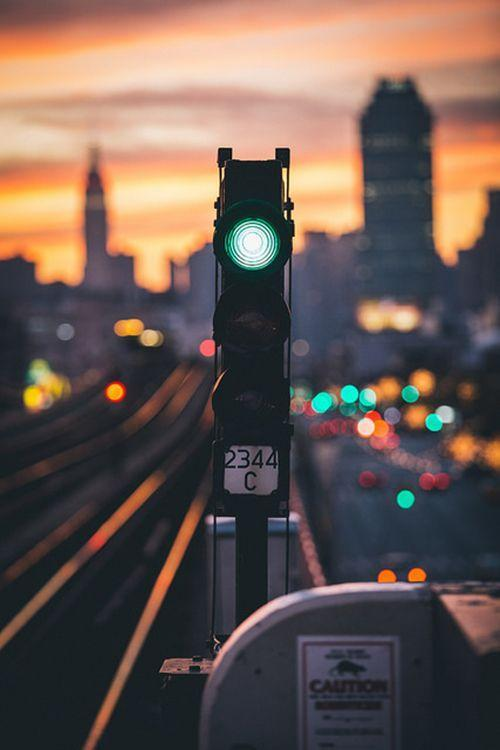green: (206, 146, 294, 436)
